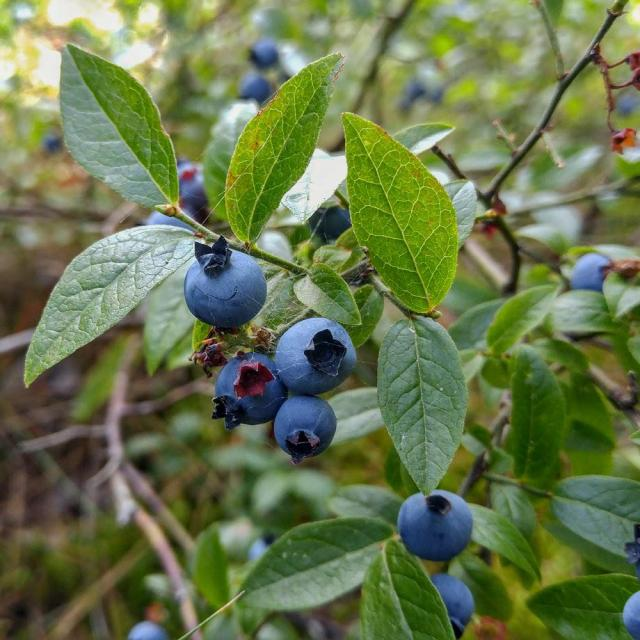BlueBerry - v1: (178, 227, 278, 335), (270, 308, 370, 406), (206, 342, 300, 437), (392, 476, 478, 571), (268, 387, 344, 467), (418, 562, 484, 636), (169, 148, 223, 225), (562, 241, 622, 299), (311, 191, 364, 255), (621, 572, 640, 638)
